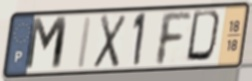1: (131, 11, 149, 69)
D: (184, 9, 225, 65)
F: (155, 10, 193, 68)
I: (74, 15, 95, 71)
M: (23, 15, 70, 74)
X: (91, 13, 129, 71)
